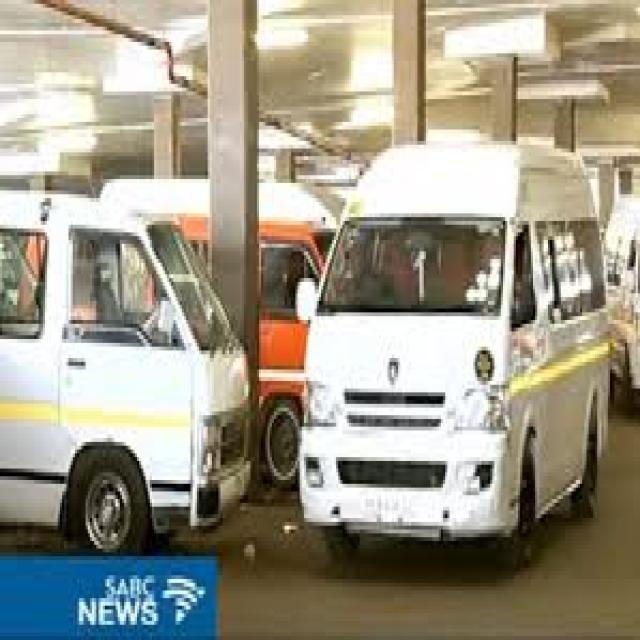MiniBus taxi: (272, 137, 612, 575), (2, 171, 253, 560)
